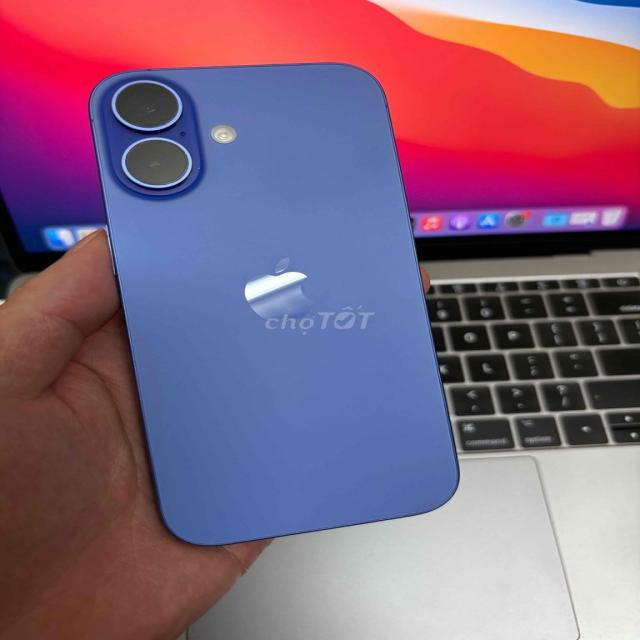gen_16: (75, 46, 471, 551)
